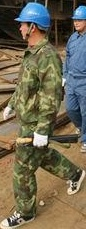boots: (0, 209, 35, 229), (83, 107, 86, 117)
gloves: (33, 130, 49, 147), (61, 76, 66, 86)
hard-hat: (14, 1, 51, 28)
ppe-suit: (2, 37, 84, 215)
